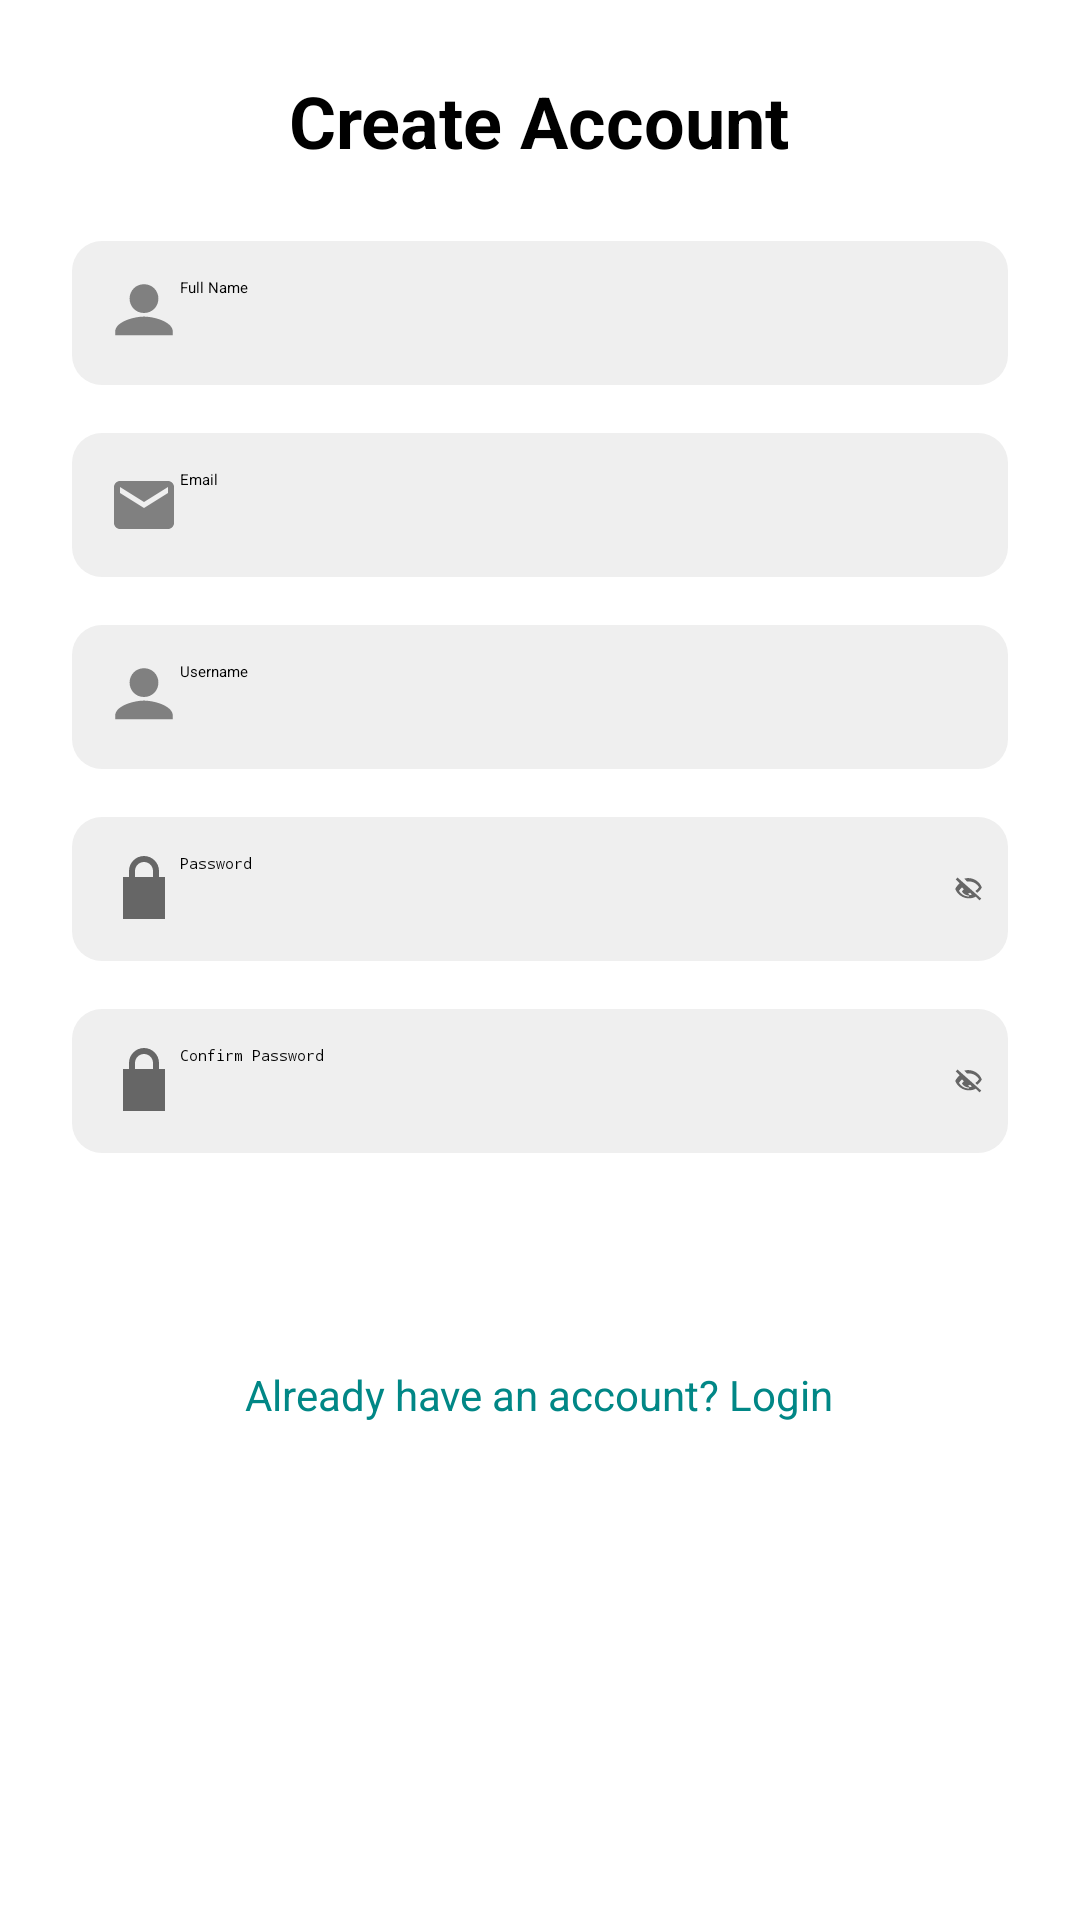

Screen size 1080×1920. Icon name, then its center in pixels as point (x, y):
eye closed: point (968, 888), point (968, 1080)
